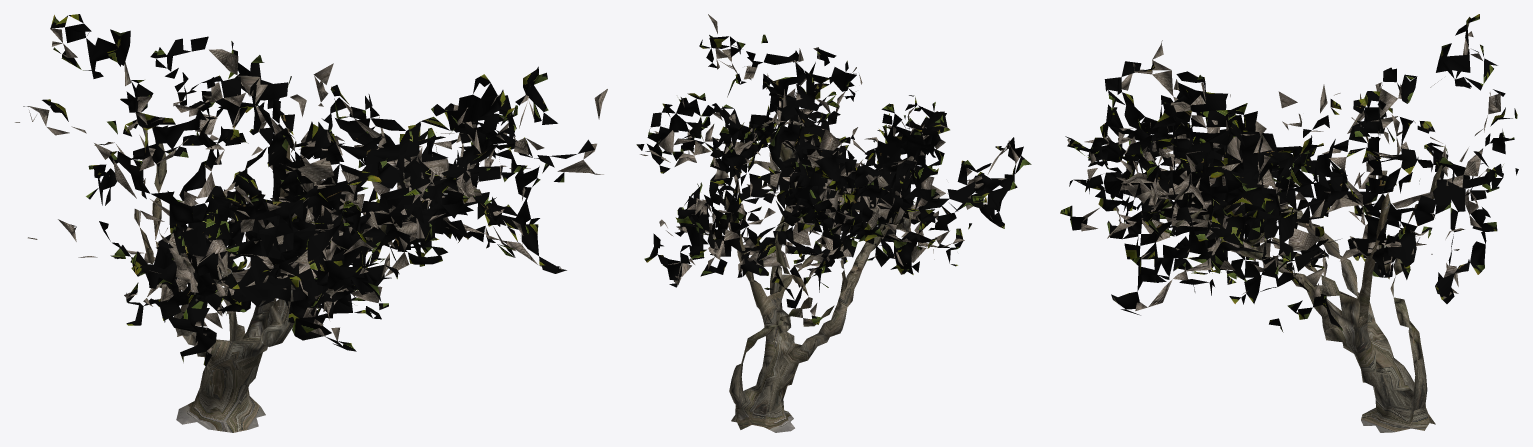
The model's file is IslandTree_LOD2.glb.
3 renders of one model, left to right at view 1: azimuth 30°, elevation 25°; view 2: azimuth 150°, elevation 25°; view 3: azimuth 270°, elevation 25°, orthographic. The views are drawn at different scales.
Size of the model in its own units: 4.04 by 3.35 by 3.94.
3 materials, 3 textured.
